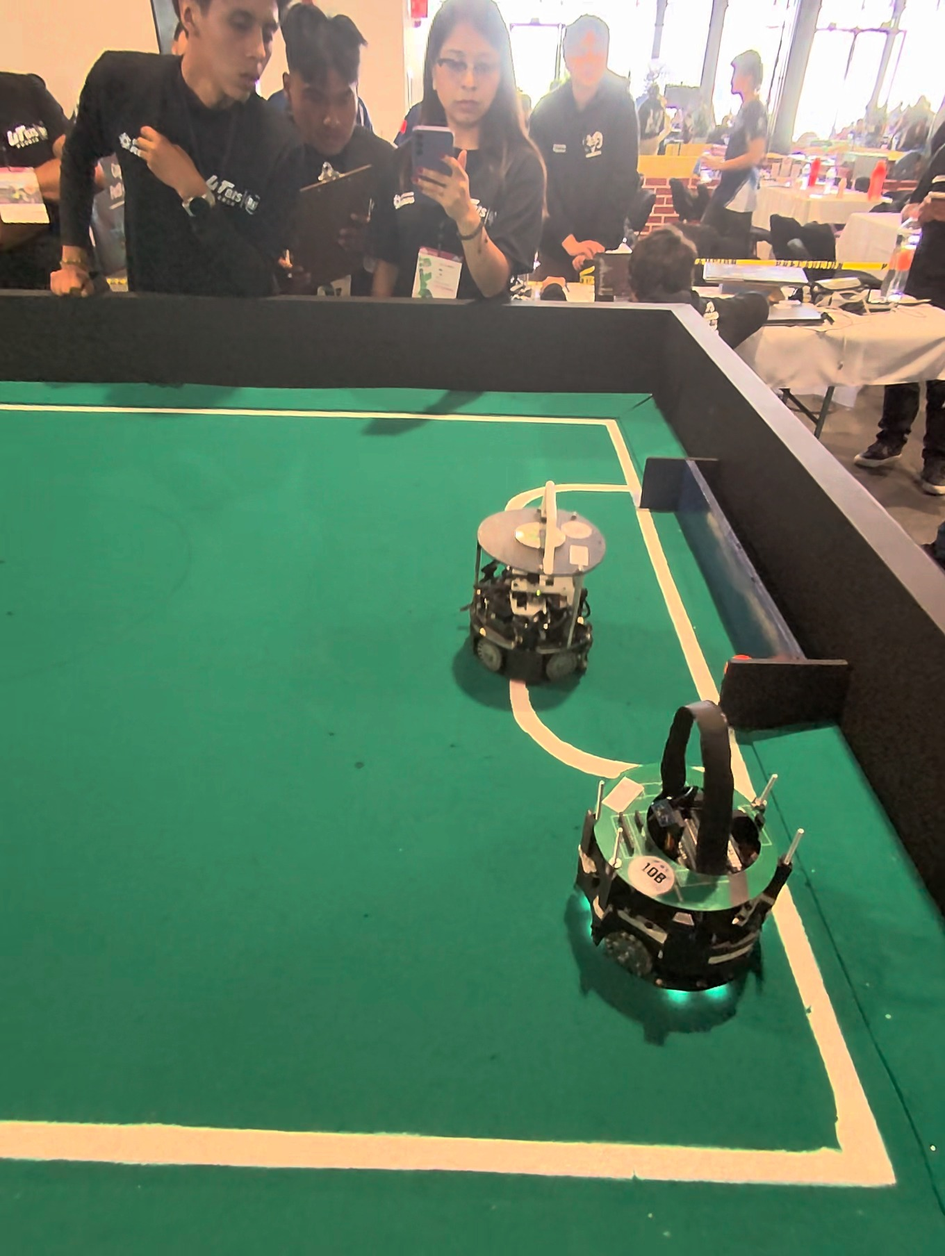Robot: (536, 701, 809, 1057), (456, 538, 603, 705)
pelota: (711, 647, 764, 695)
